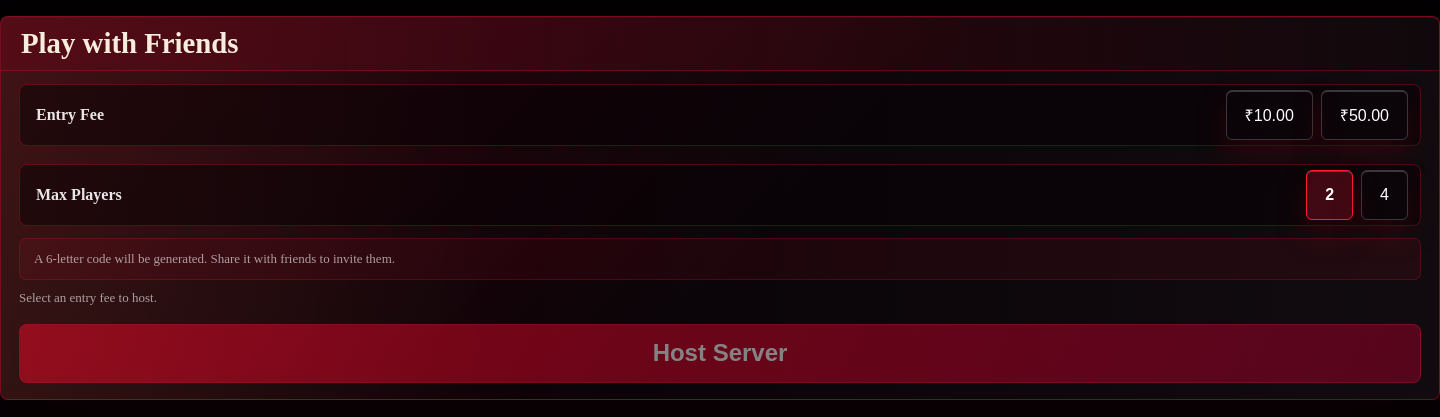
Test: AddServer — hosting a private room › surfaces the backend error (e.g. insufficient balance) instead of failing silently
Click the button "₹10.00" at (1269, 115), box [1226, 90, 1313, 140]
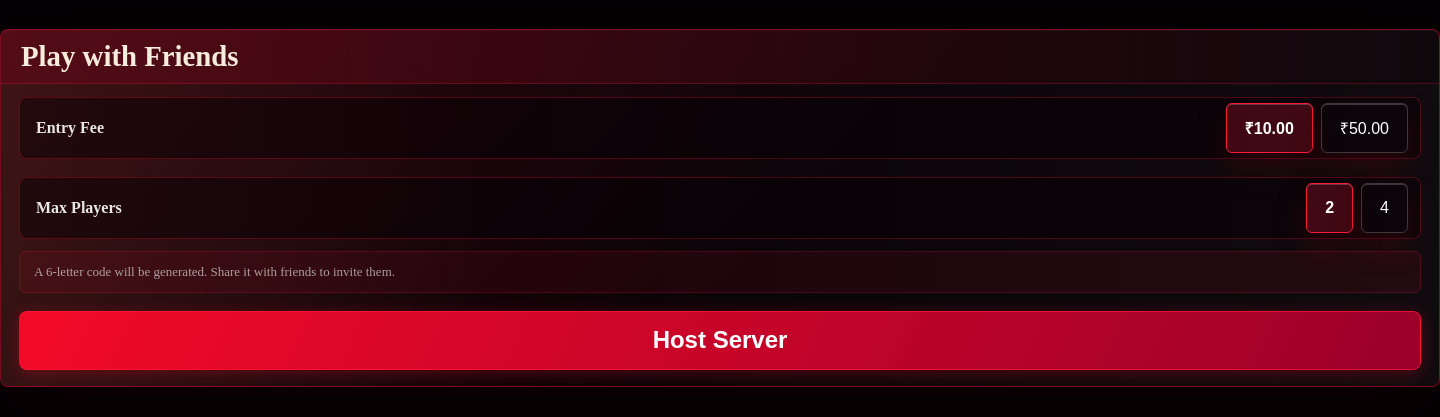
Click the button "Host Server" at (720, 340), box [19, 311, 1421, 370]
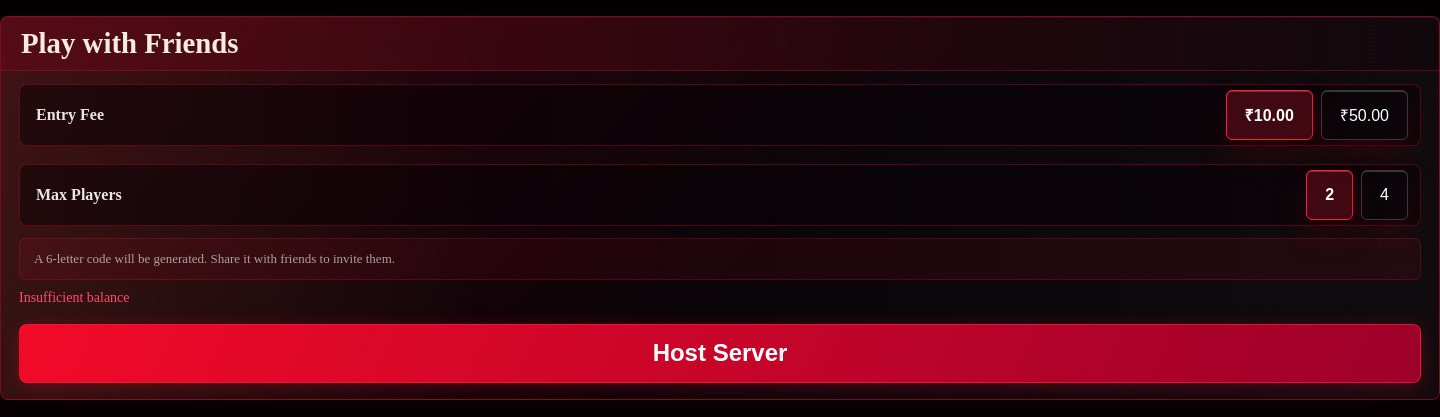
Now the text "Insufficient balance" is shown, box [19, 290, 130, 305]
